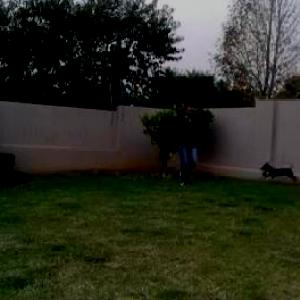follow: (173, 98, 200, 189)
